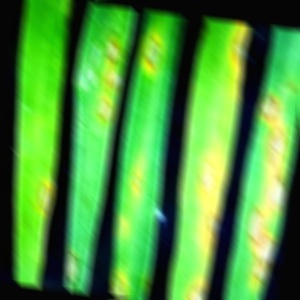Brown_Spot: (180, 149, 222, 198), (248, 231, 278, 286), (255, 124, 292, 168), (99, 265, 144, 300), (127, 149, 155, 204), (62, 229, 84, 296), (209, 27, 247, 65), (260, 171, 288, 213), (141, 33, 170, 73), (29, 176, 55, 218), (96, 31, 125, 67), (253, 89, 284, 121), (241, 209, 271, 241), (113, 214, 136, 244), (99, 65, 124, 91), (95, 92, 116, 120), (196, 213, 221, 236)
